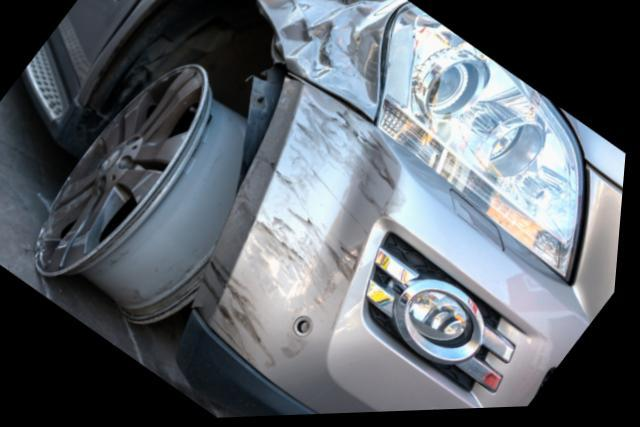dent: (259, 0, 406, 108)
scratch: (198, 81, 411, 373)
